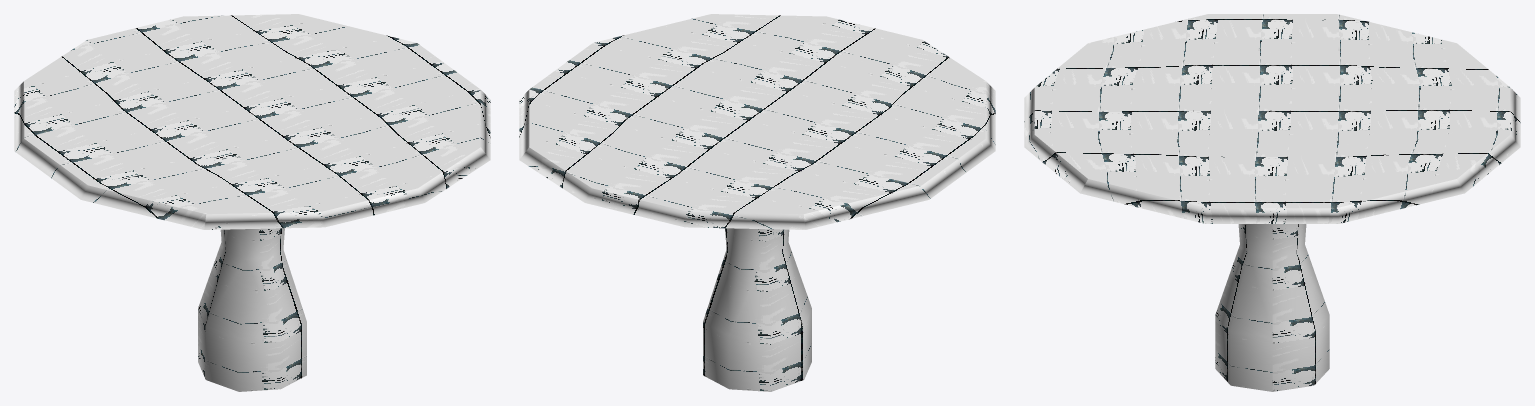
Rendered from RoundTable.FBX.
3 renders of one model, left to right at view 1: azimuth 30°, elevation 25°; view 2: azimuth 150°, elevation 25°; view 3: azimuth 270°, elevation 25°, orthographic.
Visible parts, largest first — view 1: RoundTable; view 2: RoundTable; view 3: RoundTable.
Part boxes in pixels (bbox=[...]): RoundTable: bbox=[14, 14, 490, 391]; RoundTable: bbox=[519, 14, 995, 391]; RoundTable: bbox=[1024, 14, 1520, 391].
Size of the model in its own units: 3.14 by 3.25 by 1.86.
1 material, 1 textured.
